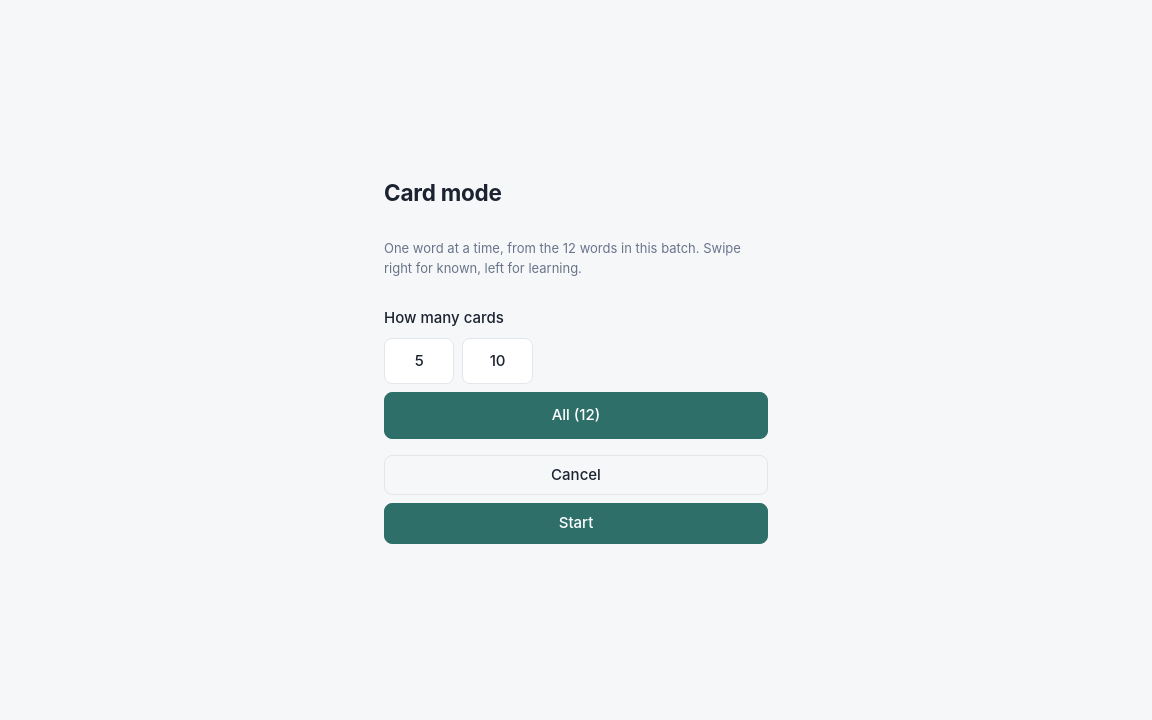
Test: CardMode deck › re-hides the definition on the next card
This screenshot has width=1152, height=720.
Click the button "5" at x=419, y=361, box [384, 338, 454, 384]
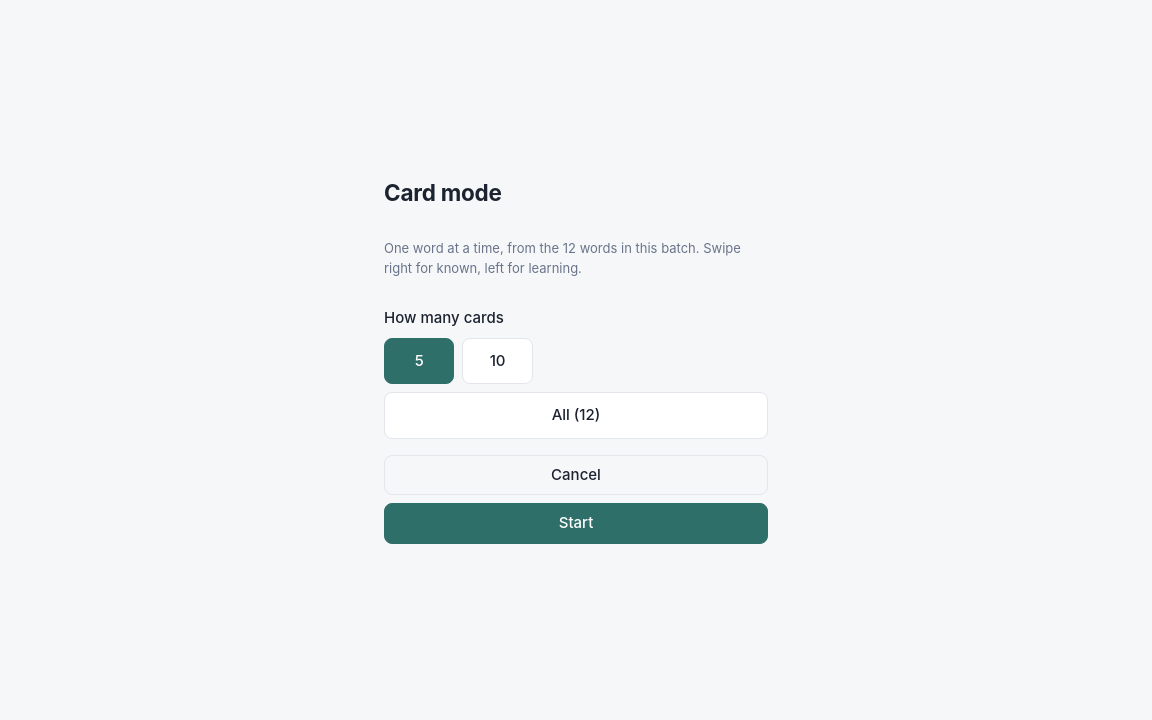
Click the button "Start" at x=576, y=523, box [384, 503, 768, 544]
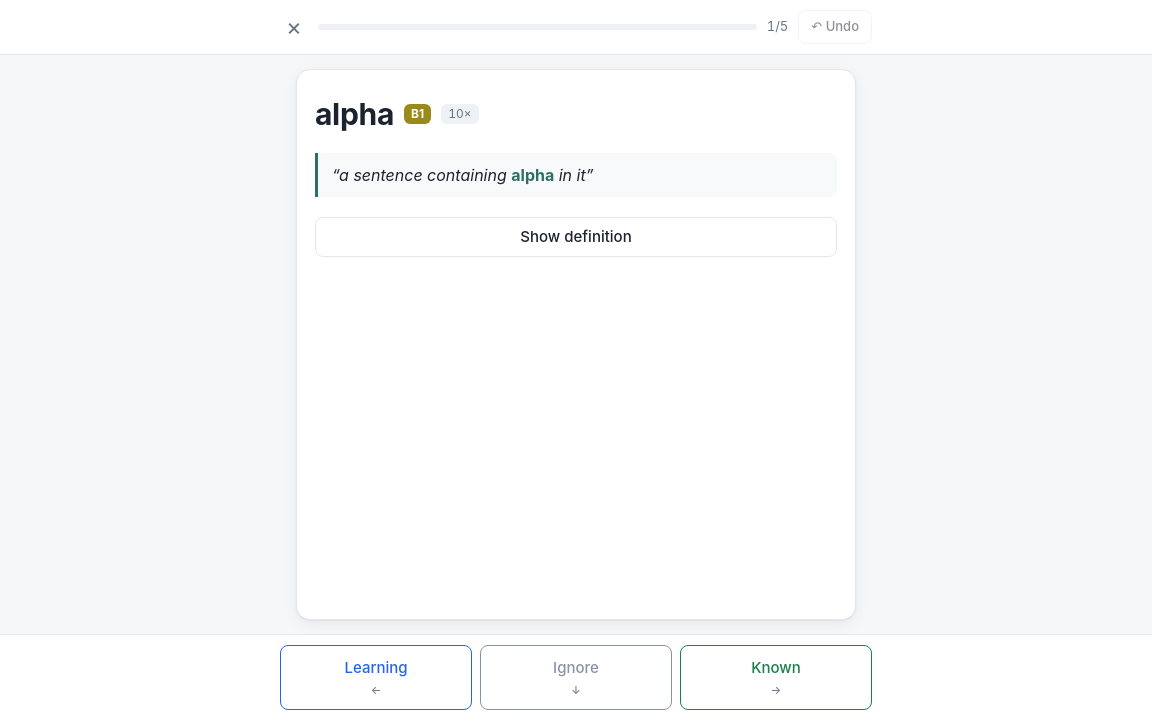
Click the button "Show definition" at x=576, y=237, box [315, 216, 837, 257]
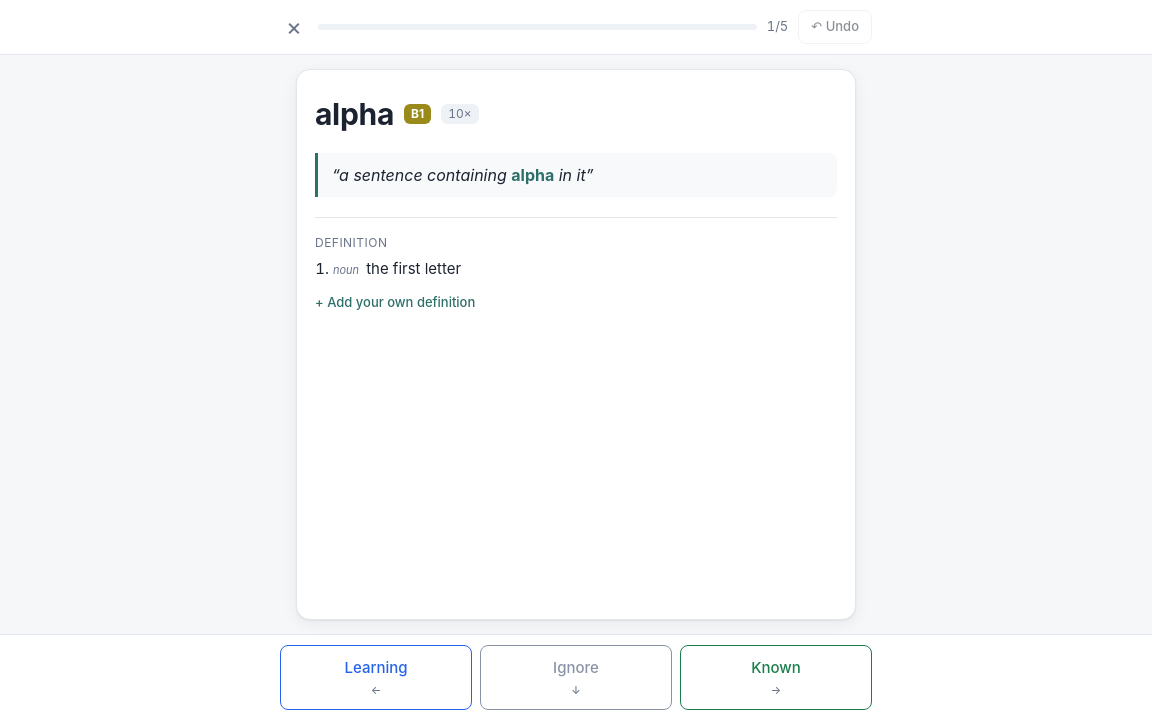
Now the text "the first letter" is shown, box [366, 258, 461, 278]
Click the button "Known →" at x=776, y=678, box [680, 645, 872, 710]
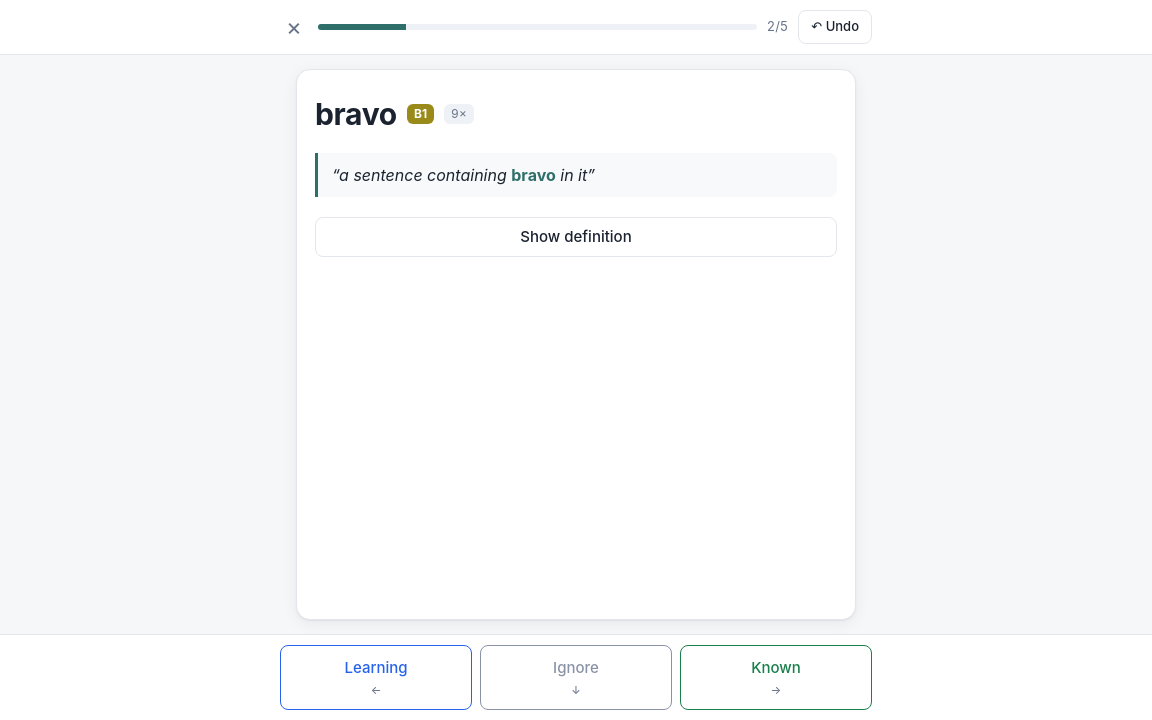
Now the text "the first letter" is gone
Now the button "Show definition" is shown, box [315, 216, 837, 257]
